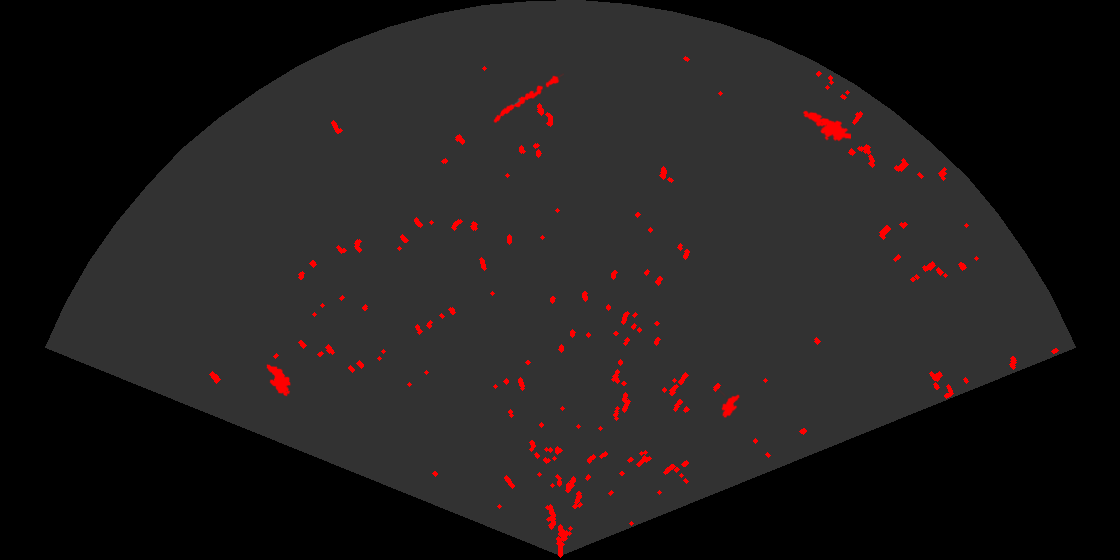AUV: (265, 362, 292, 398), (716, 389, 741, 420)
chain: (492, 72, 564, 125)
frogman: (801, 109, 851, 143)
